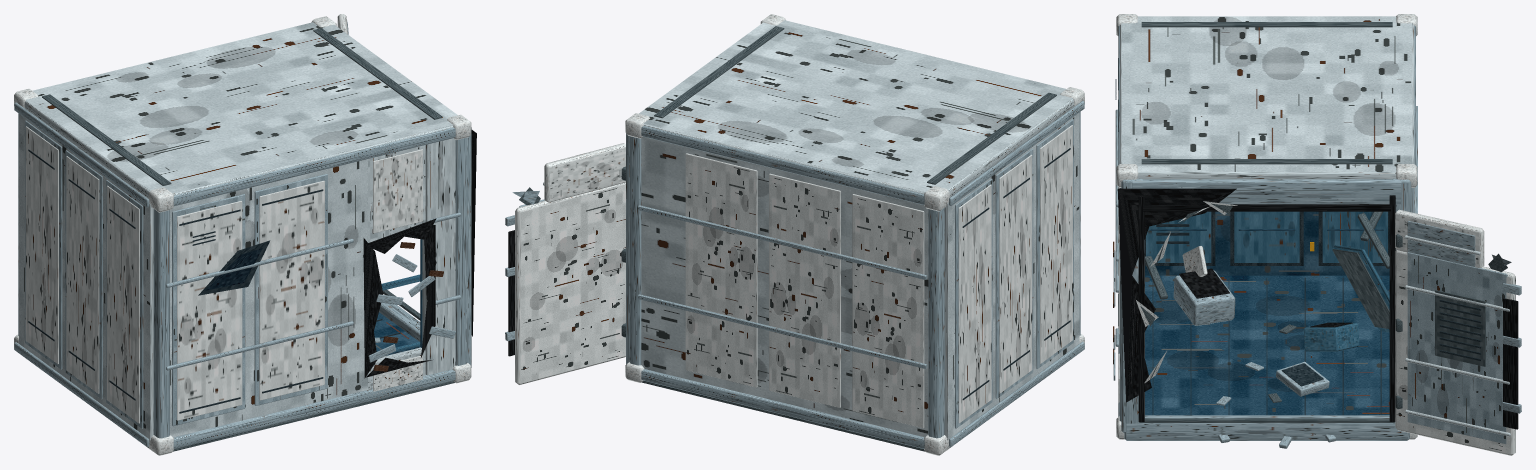
Rendered from CargoWrecked.glb.
3 views of the same model, side by side, from view 1: azimuth 30°, elevation 25°; view 2: azimuth 150°, elevation 25°; view 3: azimuth 270°, elevation 25° (orthographic). The views are drawn at different scales.
Visible parts, largest first — view 1: CargoWrecked; view 2: CargoWrecked; view 3: CargoWrecked.
Boxes of the visible parts, x1=… form: CargoWrecked: x1=14, y1=14, x2=476, y2=455; CargoWrecked: x1=505, y1=14, x2=1084, y2=455; CargoWrecked: x1=1113, y1=14, x2=1521, y2=455.
Bounding box in the file's own units: 9.37 × 6 × 8.24.
1 material, 1 textured.
